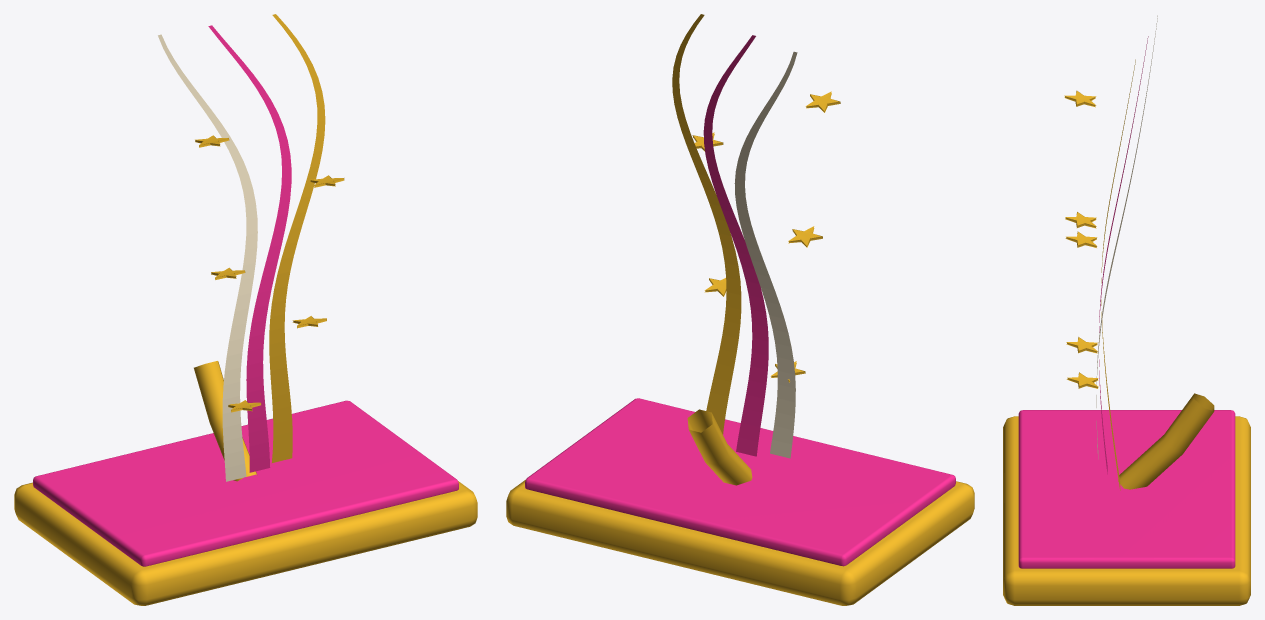
Rendered from prime.trail.podium.glb.
The picture shows the model from 3 angles, left to right: view 1: azimuth 30°, elevation 25°; view 2: azimuth 150°, elevation 25°; view 3: azimuth 270°, elevation 25°; orthographic projection. The views are drawn at different scales.
Parts seen in each view (by area): view 1: ribbon_base_enamel, ribbon_base, podium_ribbon_2, podium_ribbon_1, podium_ribbon_0, ribbon_stem; view 2: ribbon_base_enamel, ribbon_base, podium_ribbon_1, podium_ribbon_2, podium_ribbon_0, ribbon_stem; view 3: ribbon_base_enamel, ribbon_base, ribbon_stem, podium_ribbon_2, podium_ribbon_1, podium_ribbon_0.
Part boxes in pixels (left/top/right/bottom): ribbon_base_enamel: left=33, top=400, right=458, bottom=566; ribbon_base: left=14, top=481, right=477, bottom=605; podium_ribbon_2: left=158, top=34, right=257, bottom=481; podium_ribbon_1: left=208, top=25, right=291, bottom=472; podium_ribbon_0: left=269, top=14, right=325, bottom=462; ribbon_stem: left=194, top=361, right=257, bottom=481; ribbon_base_enamel: left=525, top=398, right=955, bottom=566; ribbon_base: left=506, top=479, right=974, bottom=605; podium_ribbon_1: left=703, top=35, right=768, bottom=456; podium_ribbon_2: left=734, top=51, right=797, bottom=458; podium_ribbon_0: left=672, top=14, right=741, bottom=434; ribbon_stem: left=687, top=409, right=752, bottom=485; ribbon_base_enamel: left=1018, top=410, right=1235, bottom=568; ribbon_base: left=1003, top=416, right=1250, bottom=605; ribbon_stem: left=1118, top=393, right=1214, bottom=489; podium_ribbon_2: left=1096, top=15, right=1157, bottom=459; podium_ribbon_1: left=1099, top=36, right=1148, bottom=474; podium_ribbon_0: left=1101, top=59, right=1135, bottom=490.
Size of the model in its own units: 0.5435 by 0.7494 by 0.3478.
